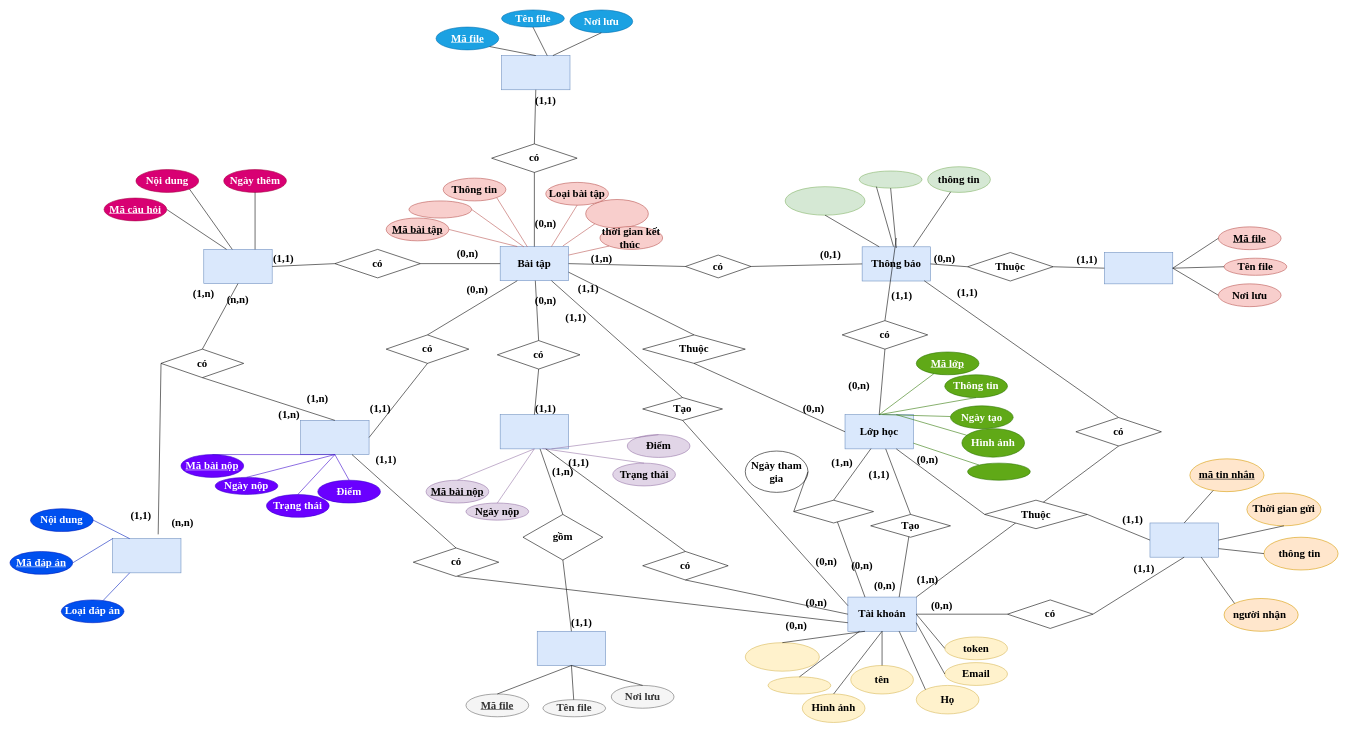
Some shapes in this 1348 by 732 pixel diagram are drawn without their labels. The shapes that lost their labels are listed below. From the top down, each one's centre as x and y in pixels, then its label:
At point (535, 72): "file bài tập tự luận".
At point (890, 179): "Ngày đăng".
At point (440, 209): "Chủ đề".
At point (616, 213): "thời gian đăng".
At point (825, 200): "Mã bài thông báo".
At point (237, 266): "Câu hỏi".
At point (1138, 268): "File thông báo".
At point (334, 437): "Bài tập trắc nghiệm".
At point (534, 431): "Bài tập tự luận".
At point (998, 471): "Tên lớp".
At point (833, 511): "Thành viên".
At point (146, 555): "Đáp án".
At point (1183, 539): "Tin nhắn".
At point (571, 648): "Thông tin bài tập tự luận".
At point (782, 656): "Tên đăng nhập".
At point (799, 685): "Mật khẩu".
